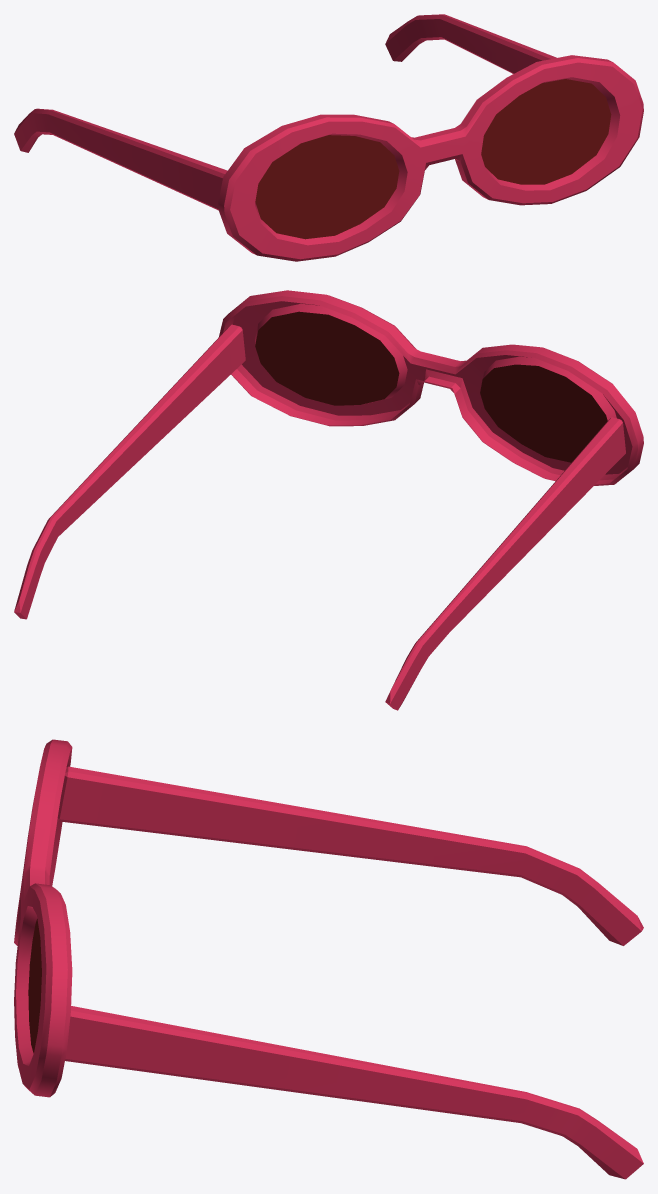
Rendered from Sunglass3.fbx.
The picture shows the model from 3 angles, top to bottom: view 1: azimuth 30°, elevation 25°; view 2: azimuth 150°, elevation 25°; view 3: azimuth 270°, elevation 25°; orthographic projection. The views are drawn at different scales.
Visible parts, largest first — view 1: Cube; view 2: Cube; view 3: Cube.
Boxes of the visible parts, box(x1,y1,x2,y2) form: Cube: box(14, 14, 643, 261); Cube: box(14, 290, 643, 710); Cube: box(14, 739, 643, 1179).
Size of the model in its own units: 37.37 by 37.77 by 15.22.
